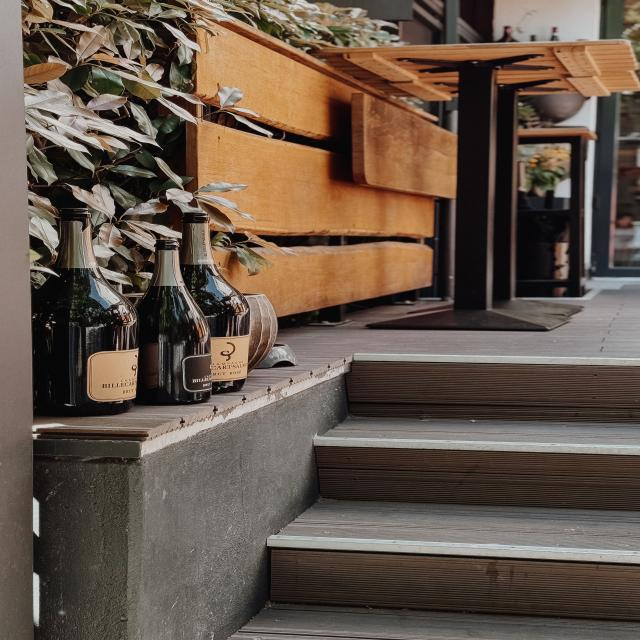Bottle: (33, 209, 138, 415), (181, 213, 249, 393), (137, 240, 211, 404), (497, 26, 517, 42), (551, 27, 559, 41), (530, 35, 536, 42)
